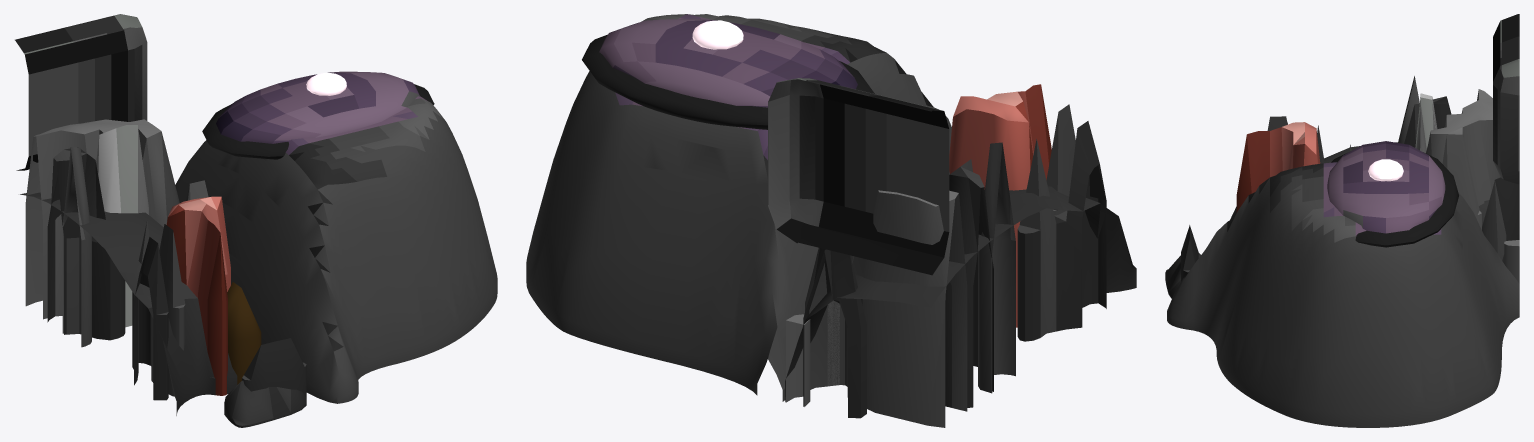
The model's file is deli_tower_43.glb.
3 renders of one model, left to right at view 1: azimuth 30°, elevation 25°; view 2: azimuth 150°, elevation 25°; view 3: azimuth 270°, elevation 25°, orthographic. The views are drawn at different scales.
Parts seen in each view (by area): view 1: deli_tower_43_capsule, deli_tower_43_hull_dark, deli_tower_43_hull_mid, deli_tower_43_s4_low, deli_tower_43_hull_gaps, deli_tower_43_capsule_lens, deli_tower_43_hull_red, deli_tower_43_hull_light, deli_tower_43_hull_brown, deli_tower_43_capsule_lens_rim, deli_tower_43_capsule_lens_bead; view 2: deli_tower_43_capsule, deli_tower_43_hull_mid, deli_tower_43_s4_low, deli_tower_43_hull_dark, deli_tower_43_capsule_lens, deli_tower_43_hull_red, deli_tower_43_hull_gaps, deli_tower_43_capsule_lens_rim, deli_tower_43_capsule_lens_bead; view 3: deli_tower_43_capsule, deli_tower_43_capsule_lens, deli_tower_43_hull_mid, deli_tower_43_s4_low, deli_tower_43_hull_red, deli_tower_43_hull_dark, deli_tower_43_capsule_lens_rim, deli_tower_43_hull_light, deli_tower_43_hull_gaps, deli_tower_43_capsule_lens_bead.
Part boxes in pixels (bbox=[...]): deli_tower_43_capsule: bbox=[175, 96, 497, 403]; deli_tower_43_hull_dark: bbox=[47, 147, 306, 400]; deli_tower_43_hull_mid: bbox=[25, 119, 208, 396]; deli_tower_43_s4_low: bbox=[15, 14, 147, 170]; deli_tower_43_hull_gaps: bbox=[20, 192, 306, 427]; deli_tower_43_capsule_lens: bbox=[216, 71, 419, 143]; deli_tower_43_hull_red: bbox=[166, 196, 230, 395]; deli_tower_43_hull_light: bbox=[96, 125, 148, 327]; deli_tower_43_hull_brown: bbox=[227, 282, 261, 384]; deli_tower_43_capsule_lens_rim: bbox=[202, 84, 434, 159]; deli_tower_43_capsule_lens_bead: bbox=[306, 73, 346, 95]; deli_tower_43_capsule: bbox=[526, 14, 951, 401]; deli_tower_43_hull_mid: bbox=[786, 104, 1075, 427]; deli_tower_43_s4_low: bbox=[768, 78, 949, 275]; deli_tower_43_hull_dark: bbox=[803, 121, 1106, 418]; deli_tower_43_capsule_lens: bbox=[599, 18, 857, 107]; deli_tower_43_hull_red: bbox=[949, 84, 1051, 327]; deli_tower_43_hull_gaps: bbox=[785, 186, 1136, 402]; deli_tower_43_capsule_lens_rim: bbox=[582, 34, 874, 129]; deli_tower_43_capsule_lens_bead: bbox=[692, 20, 743, 49]; deli_tower_43_capsule: bbox=[1167, 162, 1519, 427]; deli_tower_43_capsule_lens: bbox=[1327, 141, 1445, 233]; deli_tower_43_hull_mid: bbox=[1267, 76, 1519, 283]; deli_tower_43_s4_low: bbox=[1493, 14, 1519, 184]; deli_tower_43_hull_red: bbox=[1236, 122, 1320, 212]; deli_tower_43_hull_dark: bbox=[1181, 96, 1519, 281]; deli_tower_43_capsule_lens_rim: bbox=[1331, 152, 1458, 247]; deli_tower_43_hull_light: bbox=[1415, 93, 1437, 153]; deli_tower_43_hull_gaps: bbox=[1165, 142, 1504, 298]; deli_tower_43_capsule_lens_bead: bbox=[1368, 159, 1403, 181].
Bounding box in the file's own units: 22.99 × 14.89 × 19.86.
